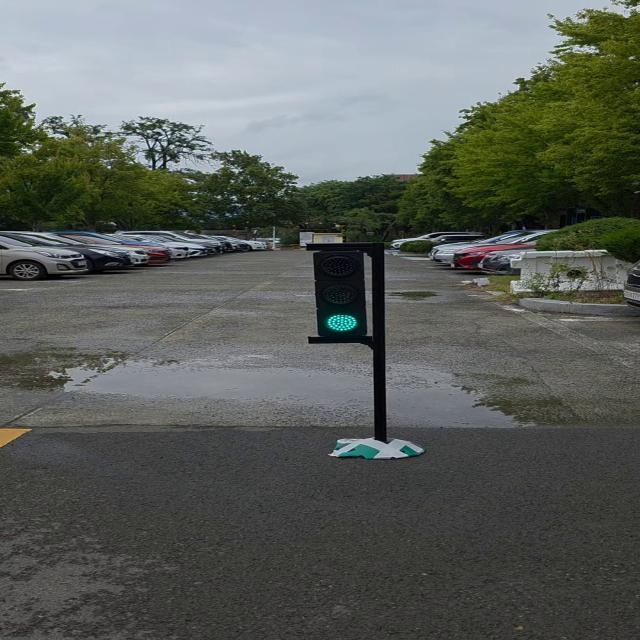green: (316, 242, 376, 339)
